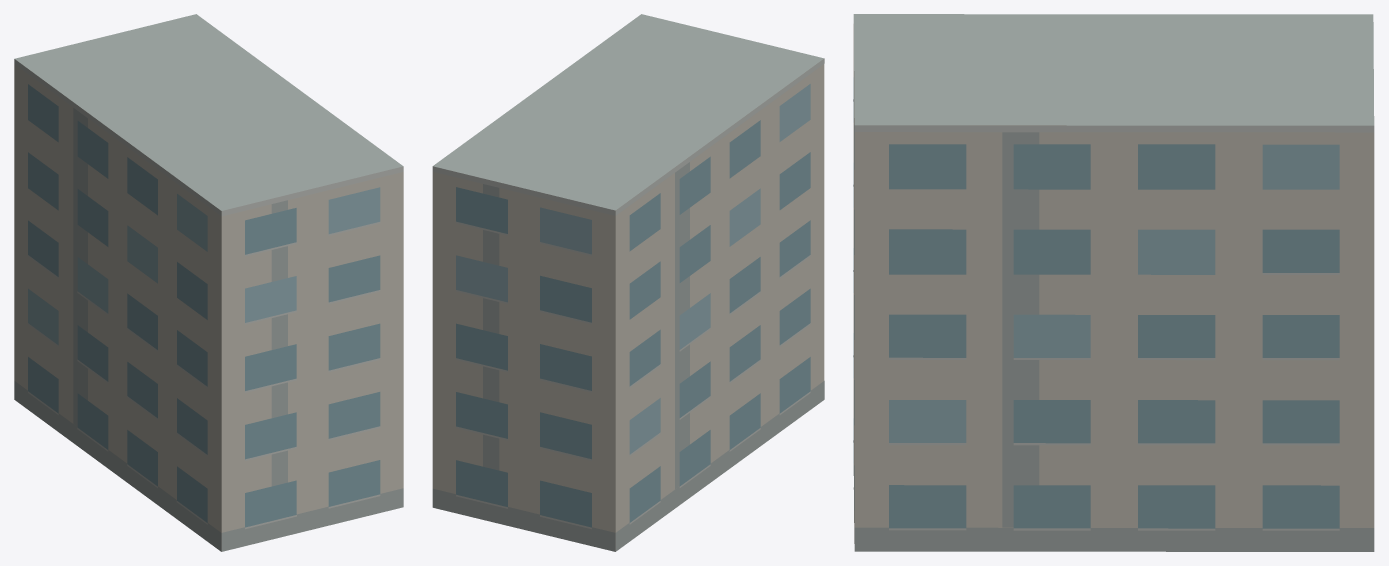
The model's file is survey-upis-32634208.glb.
The picture shows the model from 3 angles, left to right: view 1: azimuth 30°, elevation 25°; view 2: azimuth 150°, elevation 25°; view 3: azimuth 270°, elevation 25°; orthographic projection. The views are drawn at different scales.
Parts seen in each view (by area): view 1: survey-upis-32634208.tmp; view 2: survey-upis-32634208.tmp; view 3: survey-upis-32634208.tmp.
Part boxes in pixels (bbox=[...]): survey-upis-32634208.tmp: bbox=[14, 14, 403, 551]; survey-upis-32634208.tmp: bbox=[432, 14, 824, 551]; survey-upis-32634208.tmp: bbox=[853, 14, 1374, 551].
Bounding box in the file's own units: 8.59 × 15.25 × 16.9.
